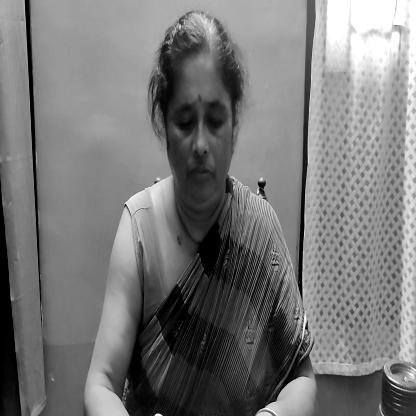Distracted: (152, 19, 244, 217)
